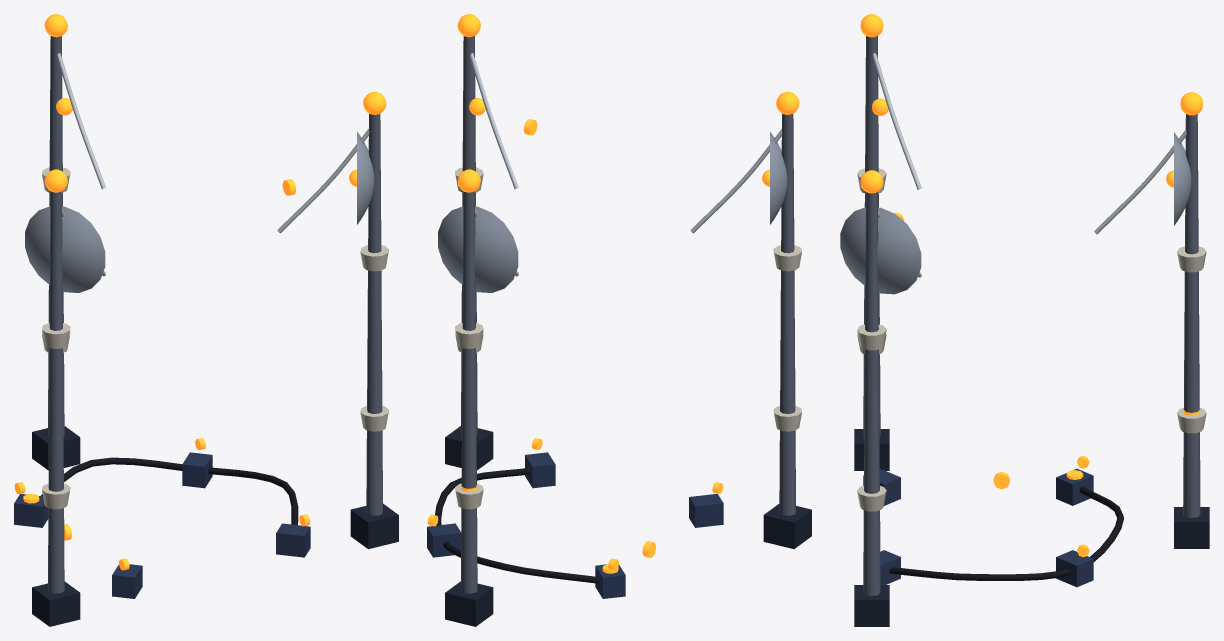
File: tower_overclock_network_s8.glb
3 renders of one model, left to right at view 1: azimuth 30°, elevation 25°; view 2: azimuth 150°, elevation 25°; view 3: azimuth 270°, elevation 25°, orthographic.
Parts seen in each view (by area): view 1: overclock_antenna2, overclock_antenna1, overclock_link_dish2, overclock_antenna0, overclock_relay_cable, overclock_antenna_foot2, overclock_antenna_foot1, overclock_antenna_foot0, overclock_link_dish1, overclock_relay2, overclock_relay1, overclock_relay3 (+7 smaller); view 2: overclock_antenna0, overclock_antenna2, overclock_link_dish0, overclock_antenna1, overclock_relay_cable, overclock_antenna_foot2, overclock_antenna_foot0, overclock_antenna_foot1, overclock_link_dish2, overclock_relay3, overclock_relay2, overclock_relay1 (+7 smaller); view 3: overclock_antenna1, overclock_antenna0, overclock_link_dish1, overclock_antenna2, overclock_relay_cable, overclock_antenna_foot1, overclock_antenna_foot0, overclock_link_dish0, overclock_relay1, overclock_relay0, overclock_antenna_foot2, overclock_guy2 (+7 smaller).
Boxes of the visible parts, bbox=[...] form: overclock_antenna2: bbox=[48, 191, 64, 593]; overclock_antenna1: bbox=[366, 113, 382, 515]; overclock_link_dish2: bbox=[25, 206, 105, 292]; overclock_antenna0: bbox=[48, 36, 64, 436]; overclock_relay_cable: bbox=[41, 457, 298, 524]; overclock_antenna_foot2: bbox=[32, 581, 80, 626]; overclock_antenna_foot1: bbox=[350, 503, 398, 549]; overclock_antenna_foot0: bbox=[32, 426, 80, 470]; overclock_link_dish1: bbox=[357, 131, 374, 224]; overclock_relay2: bbox=[276, 523, 310, 557]; overclock_relay1: bbox=[182, 452, 212, 488]; overclock_relay3: bbox=[112, 564, 142, 598]; overclock_antenna0: bbox=[461, 191, 477, 593]; overclock_antenna2: bbox=[779, 113, 795, 515]; overclock_link_dish0: bbox=[438, 206, 518, 292]; overclock_antenna1: bbox=[461, 36, 477, 435]; overclock_relay_cable: bbox=[435, 467, 599, 583]; overclock_antenna_foot2: bbox=[763, 504, 811, 548]; overclock_antenna_foot0: bbox=[445, 581, 493, 626]; overclock_antenna_foot1: bbox=[445, 426, 493, 470]; overclock_link_dish2: bbox=[770, 131, 787, 224]; overclock_relay3: bbox=[689, 494, 723, 527]; overclock_relay2: bbox=[525, 452, 555, 488]; overclock_relay1: bbox=[427, 523, 461, 557]; overclock_antenna1: bbox=[863, 192, 880, 596]; overclock_antenna0: bbox=[1183, 114, 1200, 518]; overclock_link_dish1: bbox=[840, 207, 921, 294]; overclock_antenna2: bbox=[863, 36, 880, 437]; overclock_relay_cable: bbox=[889, 486, 1123, 580]; overclock_antenna_foot1: bbox=[854, 585, 889, 626]; overclock_antenna_foot0: bbox=[1174, 507, 1209, 548]; overclock_link_dish0: bbox=[1174, 132, 1191, 225]; overclock_relay1: bbox=[1056, 550, 1093, 587]; overclock_relay0: bbox=[1056, 468, 1093, 505]; overclock_antenna_foot2: bbox=[854, 429, 889, 470]; overclock_guy2: bbox=[872, 53, 921, 189].
Size of the model in its own units: 1.37 by 1.67 by 1.25.
